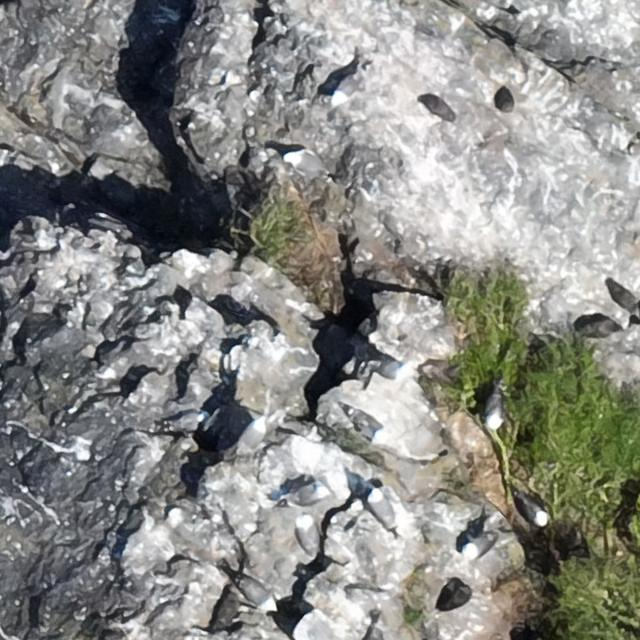umineko: (234, 572, 278, 612), (284, 149, 333, 180), (283, 483, 329, 508), (369, 353, 410, 381), (236, 416, 264, 454), (462, 531, 498, 559), (486, 388, 506, 430), (296, 516, 318, 553), (609, 282, 638, 310), (519, 497, 546, 526), (332, 73, 358, 102), (168, 412, 201, 430), (369, 492, 387, 524)
